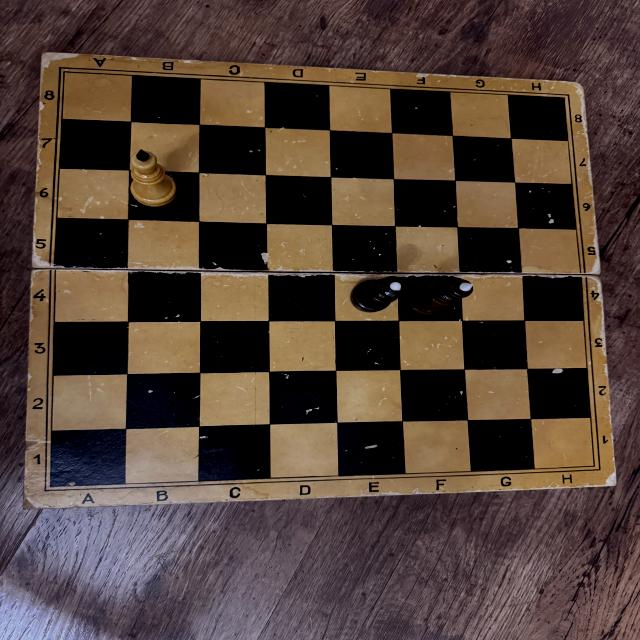black-king: (407, 276, 475, 316)
black-queen: (348, 277, 408, 313)
white-king: (126, 149, 177, 209)
